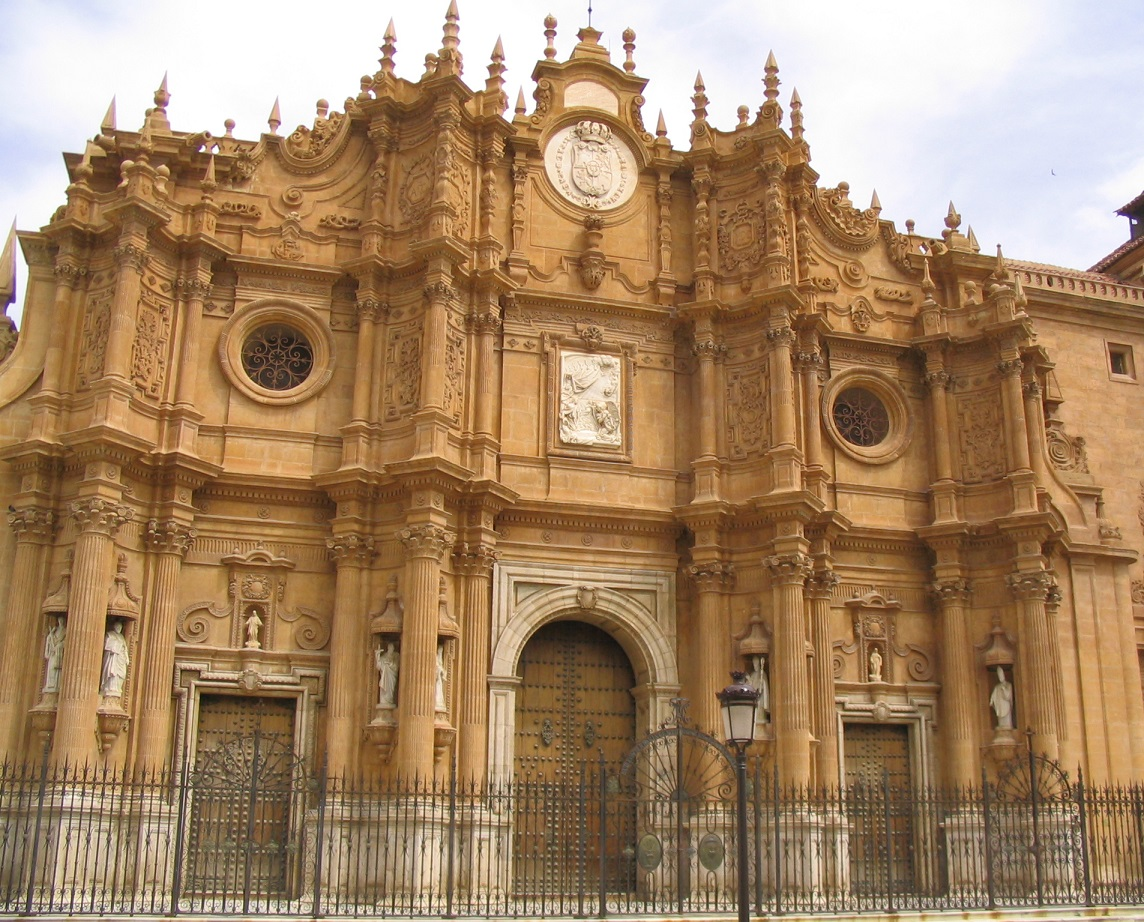arco-medio-punto: (501, 598, 663, 707)
ojo-de-buey: (220, 295, 335, 401), (823, 367, 914, 463)
vano-adintelado: (169, 668, 324, 908), (835, 705, 939, 899)
